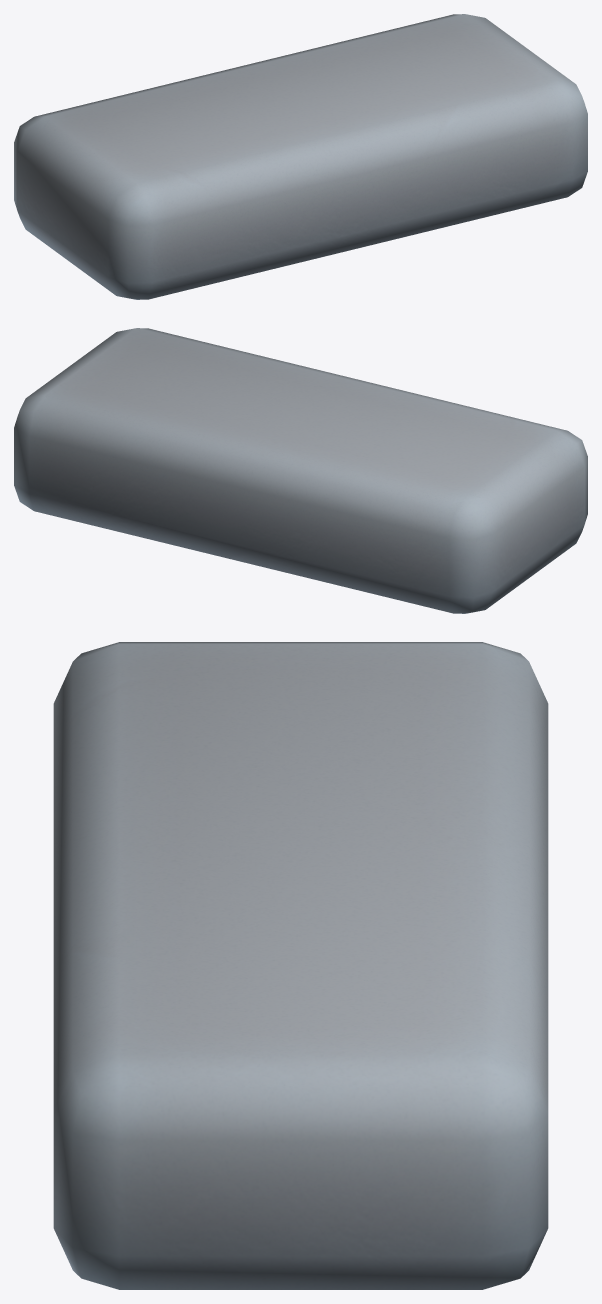
The model's file is SilverIngot.FBX.
3 renders of one model, top to bottom at view 1: azimuth 30°, elevation 25°; view 2: azimuth 150°, elevation 25°; view 3: azimuth 270°, elevation 25°, orthographic. The views are drawn at different scales.
Visible parts, largest first — view 1: SilverIngot; view 2: SilverIngot; view 3: SilverIngot.
Part boxes in pixels (x1,y1,x2,y2): SilverIngot: (14, 14, 587, 299); SilverIngot: (14, 328, 587, 613); SilverIngot: (53, 642, 548, 1289).
Bounding box in the file's own units: 162 × 38.03 × 73.01.
1 material, 1 textured.
